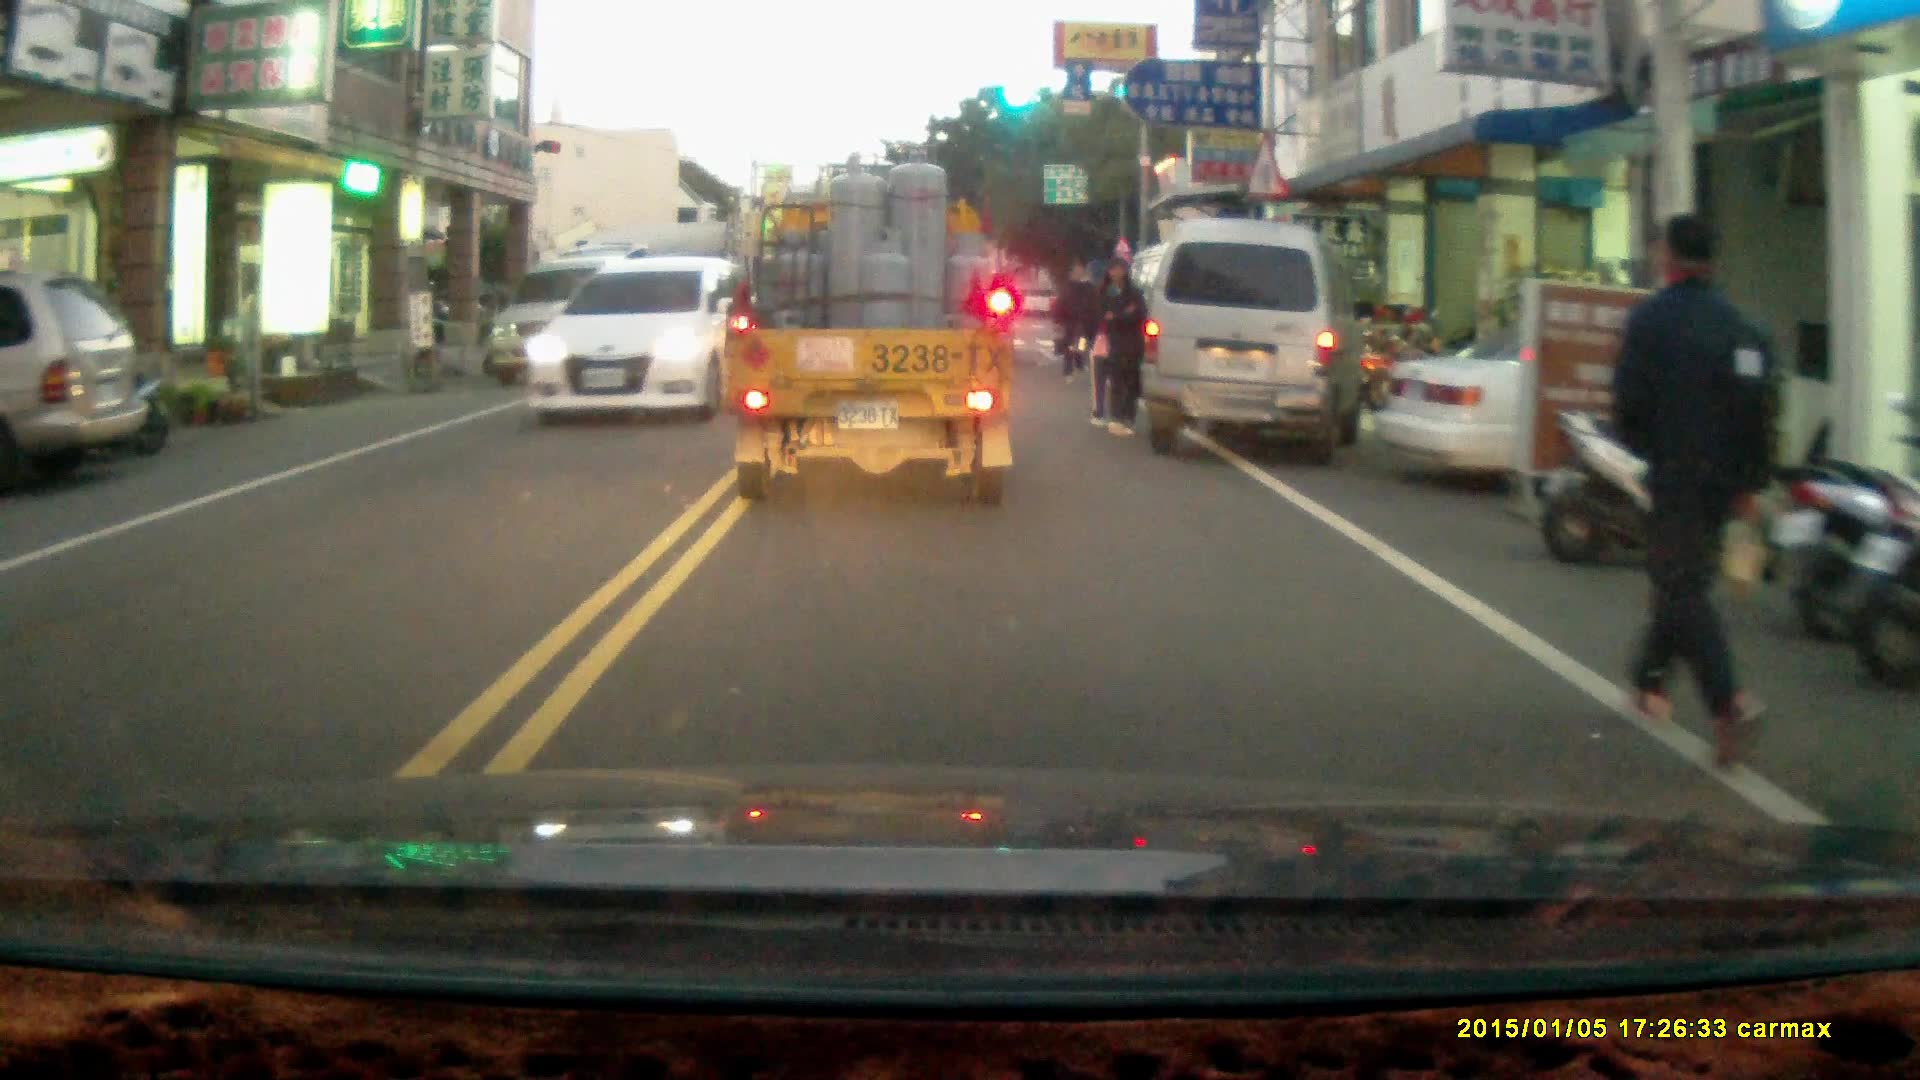pedestrian: (1605, 208, 1782, 772), (1095, 256, 1145, 435), (1052, 254, 1100, 378)
vehicle: (723, 165, 1017, 502), (1370, 308, 1852, 506), (1140, 211, 1370, 458), (525, 251, 778, 415), (1, 267, 150, 476)
